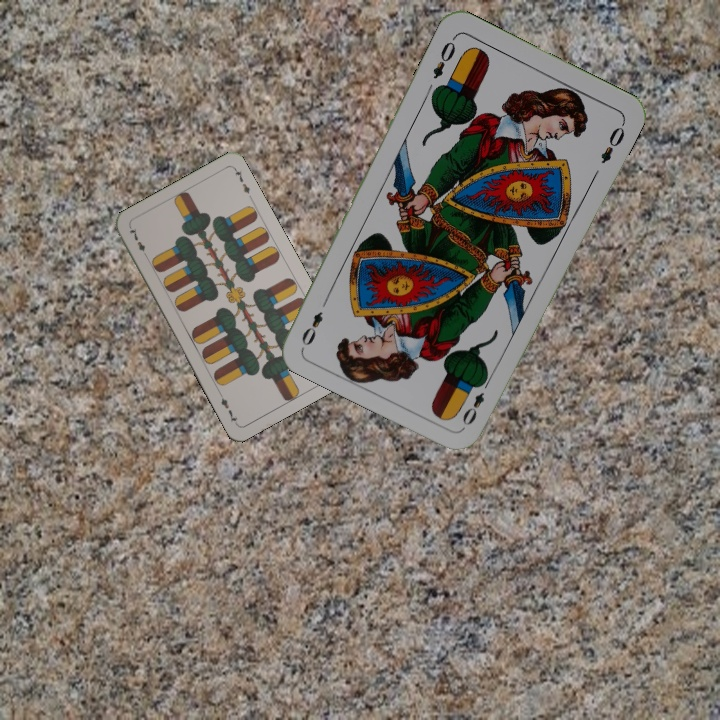E7: (125, 223, 150, 261)
EO: (458, 374, 493, 428), (429, 32, 458, 82)
